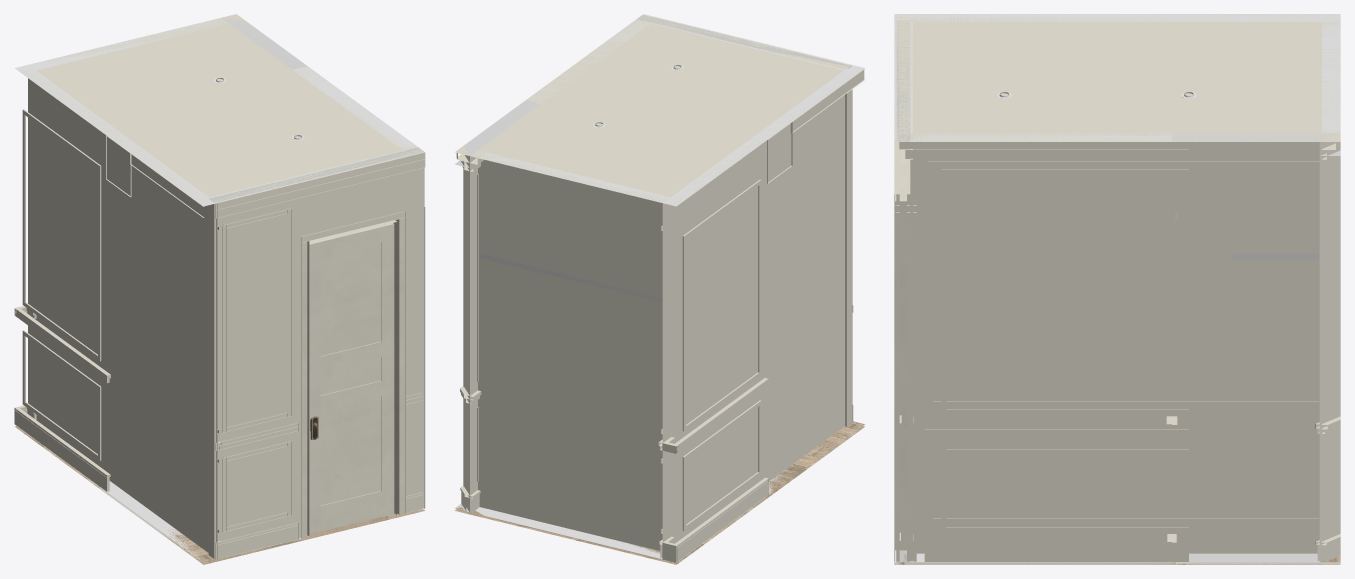
Rendered from loli-closet-8dbded87f67d.glb.
3 renders of one model, left to right at view 1: azimuth 30°, elevation 25°; view 2: azimuth 150°, elevation 25°; view 3: azimuth 270°, elevation 25°, orthographic. The views are drawn at different scales.
Parts seen in each view (by area): view 1: loli-closet-6a1144f4e43410bb, loli-closet-0e637d2be41161fb, loli-closet-2575515a05775d9e, loli-closet-5b37b110dc0e2cdc, loli-closet-d6b1bc8c737b28e2, loli-closet-e1ae12ec9cba52a2, loli-closet-609bc1027670cc96, loli-closet-8c325fd3303e2546, loli-closet-cff4566edbc5d5ad, loli-closet-9d632b693d1b5808, loli-closet-3b0077416469e01b, loli-closet-03bdd0165789d12b (+16 smaller); view 2: loli-closet-e1ae12ec9cba52a2, loli-closet-6a1144f4e43410bb, loli-closet-2575515a05775d9e, loli-closet-0e637d2be41161fb, loli-closet-1c7325212038a6e7, loli-closet-cff4566edbc5d5ad, loli-closet-3b0077416469e01b, loli-closet-cc15fd6f291c811e, loli-closet-f6f53edb039cffb5, loli-closet-2c29ddcb8551cb02, loli-closet-8bc98920de6516ce, loli-closet-507cee9bdbce9ceb (+6 smaller); view 3: loli-closet-03bdd0165789d12b, loli-closet-1c7325212038a6e7, loli-closet-2575515a05775d9e, loli-closet-1bcbe5547b2cfbdc, loli-closet-92c333610bf7beb4, loli-closet-a8b6749dbb482e83, loli-closet-aaf71131b60d1226, loli-closet-b6646e2e222b858d, loli-closet-0b1205313859304a, loli-closet-b000e8b10159de15, loli-closet-6a1144f4e43410bb, loli-closet-d6b1bc8c737b28e2 (+12 smaller).
Part boxes in pixels (x1=…): loli-closet-6a1144f4e43410bb: x1=15, y1=65, x2=215, y2=562; loli-closet-0e637d2be41161fb: x1=208, y1=146, x2=424, y2=559; loli-closet-2575515a05775d9e: x1=16, y1=14, x2=424, y2=205; loli-closet-5b37b110dc0e2cdc: x1=309, y1=223, x2=394, y2=534; loli-closet-d6b1bc8c737b28e2: x1=302, y1=218, x2=404, y2=538; loli-closet-e1ae12ec9cba52a2: x1=28, y1=18, x2=226, y2=408; loli-closet-609bc1027670cc96: x1=215, y1=152, x2=425, y2=218; loli-closet-8c325fd3303e2546: x1=222, y1=209, x2=291, y2=432; loli-closet-cff4566edbc5d5ad: x1=22, y1=109, x2=101, y2=361; loli-closet-9d632b693d1b5808: x1=307, y1=219, x2=398, y2=536; loli-closet-3b0077416469e01b: x1=15, y1=426, x2=424, y2=564; loli-closet-03bdd0165789d12b: x1=293, y1=66, x2=416, y2=149; loli-closet-e1ae12ec9cba52a2: x1=470, y1=151, x2=670, y2=558; loli-closet-6a1144f4e43410bb: x1=662, y1=65, x2=864, y2=543; loli-closet-2575515a05775d9e: x1=455, y1=14, x2=864, y2=205; loli-closet-0e637d2be41161fb: x1=637, y1=14, x2=852, y2=426; loli-closet-1c7325212038a6e7: x1=463, y1=100, x2=540, y2=511; loli-closet-cff4566edbc5d5ad: x1=682, y1=179, x2=761, y2=431; loli-closet-3b0077416469e01b: x1=454, y1=421, x2=864, y2=564; loli-closet-cc15fd6f291c811e: x1=470, y1=24, x2=655, y2=171; loli-closet-f6f53edb039cffb5: x1=682, y1=400, x2=761, y2=530; loli-closet-2c29ddcb8551cb02: x1=676, y1=478, x2=768, y2=562; loli-closet-8bc98920de6516ce: x1=767, y1=122, x2=792, y2=183; loli-closet-507cee9bdbce9ceb: x1=673, y1=378, x2=768, y2=453; loli-closet-03bdd0165789d12b: x1=913, y1=133, x2=1172, y2=562; loli-closet-1c7325212038a6e7: x1=1172, y1=133, x2=1340, y2=562; loli-closet-2575515a05775d9e: x1=894, y1=14, x2=1340, y2=141; loli-closet-1bcbe5547b2cfbdc: x1=924, y1=542, x2=1188, y2=562; loli-closet-92c333610bf7beb4: x1=928, y1=161, x2=1319, y2=405; loli-closet-a8b6749dbb482e83: x1=916, y1=534, x2=1319, y2=553; loli-closet-aaf71131b60d1226: x1=913, y1=141, x2=1188, y2=159; loli-closet-b6646e2e222b858d: x1=928, y1=436, x2=1319, y2=523; loli-closet-0b1205313859304a: x1=941, y1=169, x2=1188, y2=414; loli-closet-b000e8b10159de15: x1=916, y1=416, x2=1319, y2=425; loli-closet-6a1144f4e43410bb: x1=894, y1=14, x2=1340, y2=21; loli-closet-d6b1bc8c737b28e2: x1=895, y1=142, x2=906, y2=550.
Bounding box in the file's own units: 1.95 × 3.03 × 2.88.
18 materials, 3 textured.
